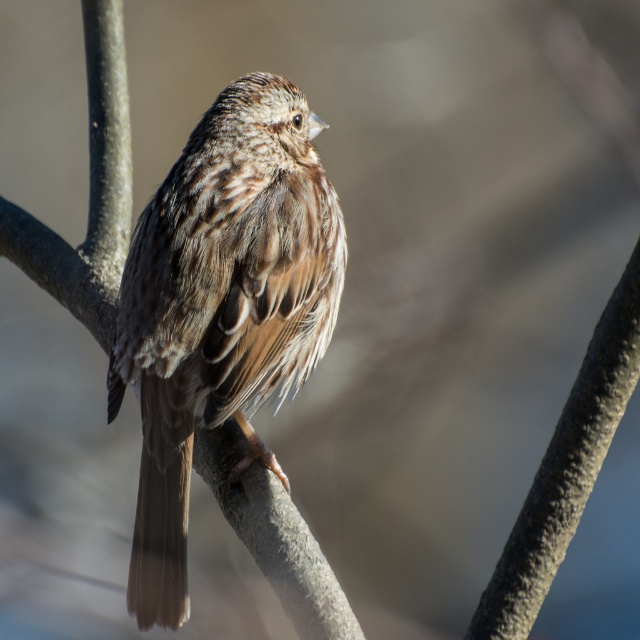Sparrow: (106, 73, 350, 632)
